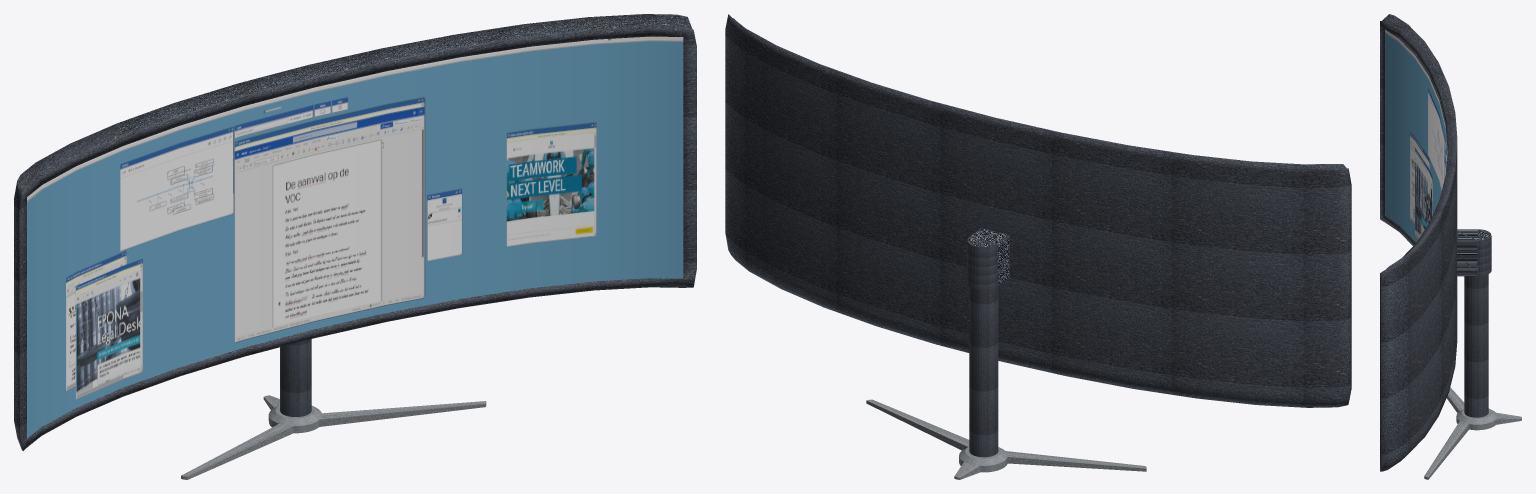
File: curvedmonitor.glb
The picture shows the model from 3 angles, left to right: view 1: azimuth 30°, elevation 25°; view 2: azimuth 150°, elevation 25°; view 3: azimuth 270°, elevation 25°; orthographic projection. The views are drawn at different scales.
Parts seen in each view (by area): view 1: Cylinder.001, Cylinder, Cylinder.002; view 2: Cylinder, Cylinder.002; view 3: Cylinder, Cylinder.001, Cylinder.002.
Part boxes in pixels (x1,y1,x2,y2): Cylinder.001: [27, 36, 683, 438]; Cylinder: [14, 14, 696, 450]; Cylinder.002: [181, 395, 486, 479]; Cylinder: [725, 14, 1351, 457]; Cylinder.002: [866, 399, 1146, 479]; Cylinder: [1380, 14, 1491, 471]; Cylinder.001: [1385, 29, 1447, 242]; Cylinder.002: [1424, 387, 1521, 479].
Size of the model in its own units: 5.45 by 2.82 by 1.28.
3 materials, 3 textured.
